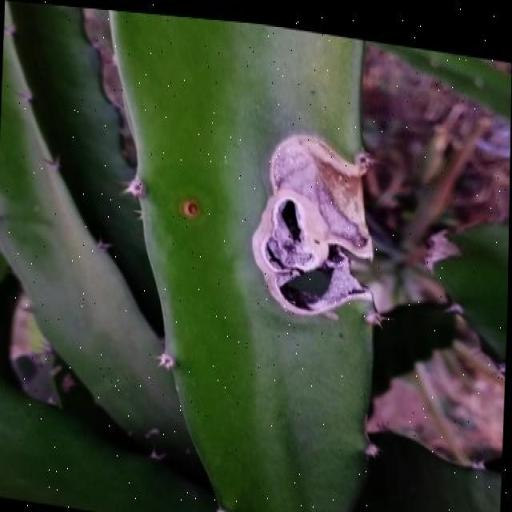stemcanker: (180, 190, 200, 225)
